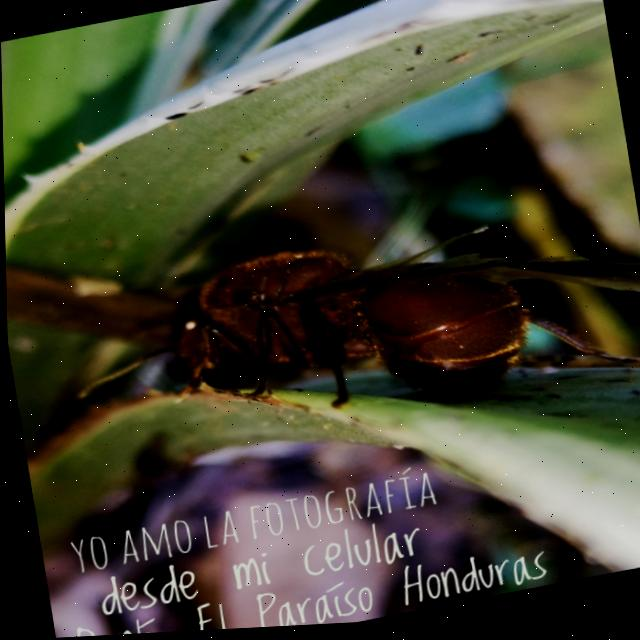Alive-Female-Alate: (3, 129, 640, 499)
